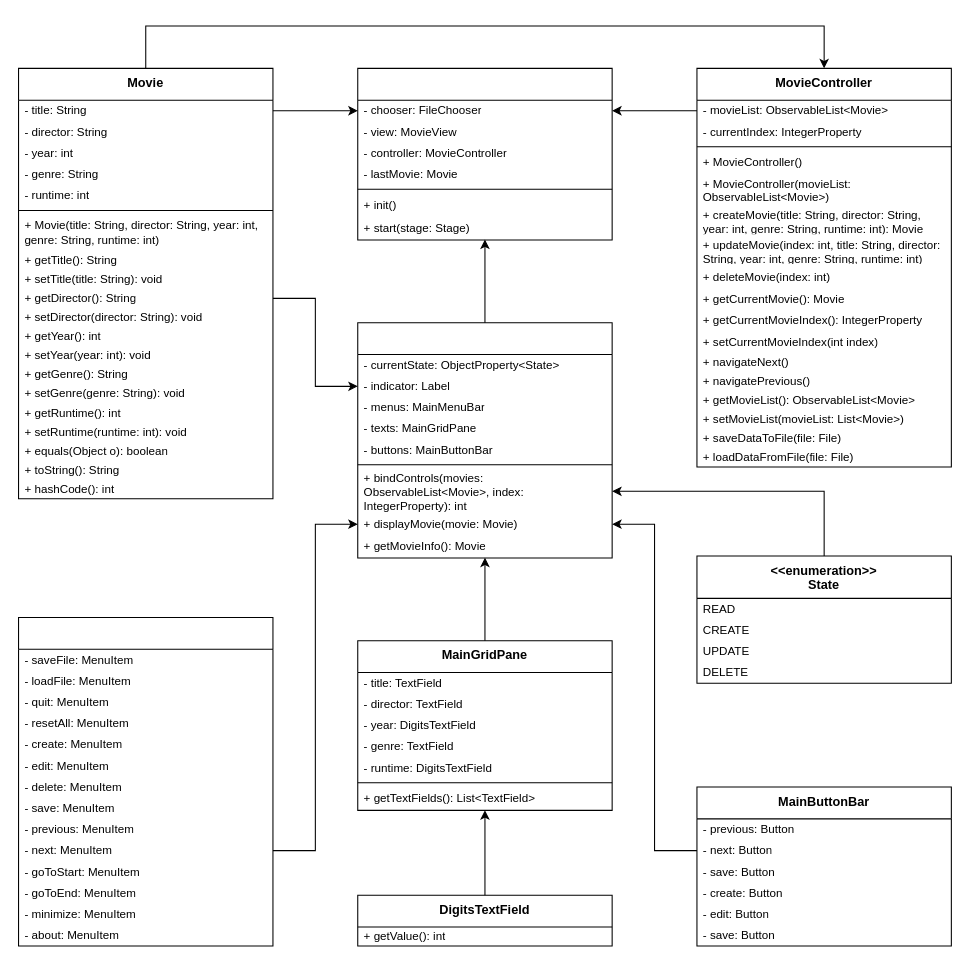
The diagram is 970 pixels wide and 965 high, and some of its shapes have lost their labels. The box of each missing label's shape, as (x1, y1, x2, y2) in pixels:
App: (357, 67, 612, 240)
MainMenuBar: (17, 616, 273, 946)
MovieView: (357, 322, 612, 558)
